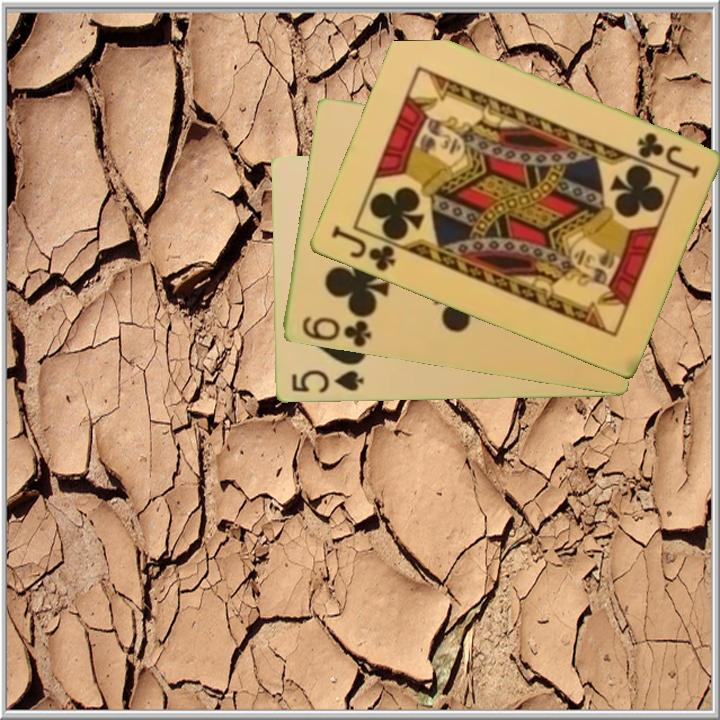5s: (288, 367, 366, 396)
6c: (298, 313, 374, 350)
Jc: (327, 222, 398, 275), (633, 129, 702, 181)
